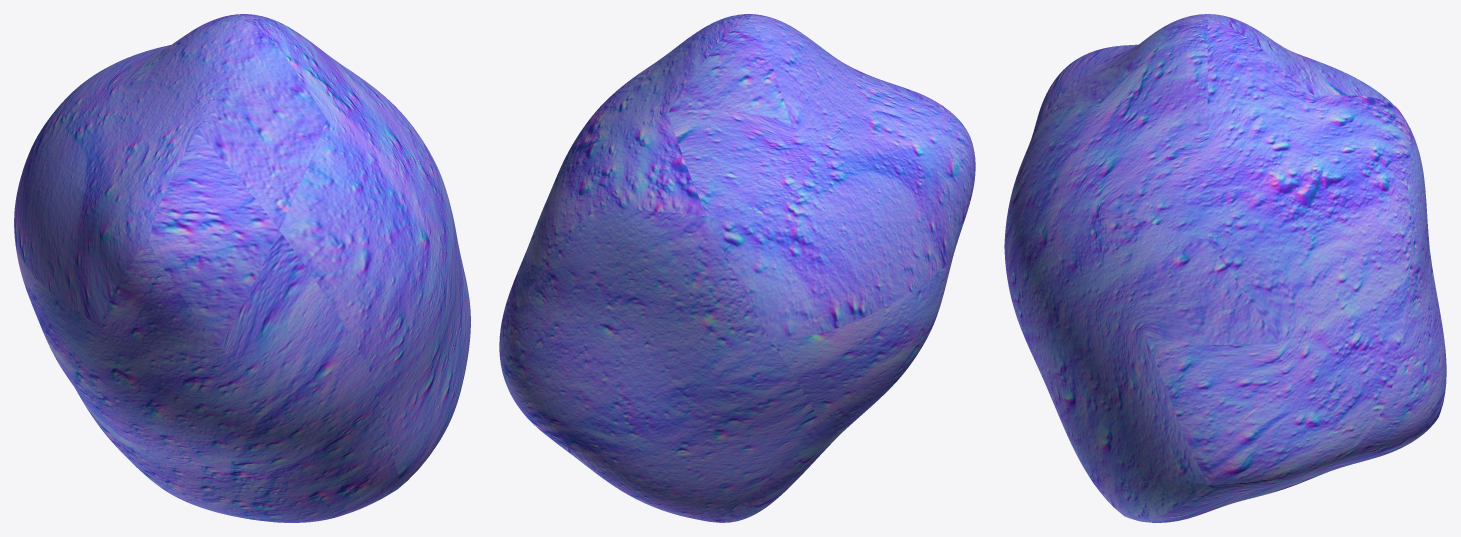
The model's file is mediumasteroid2_LOD0.fbx.
3 renders of one model, left to right at view 1: azimuth 30°, elevation 25°; view 2: azimuth 150°, elevation 25°; view 3: azimuth 270°, elevation 25°, orthographic. The views are drawn at different scales.
Parts seen in each view (by area): view 1: Icosphere; view 2: Icosphere; view 3: Icosphere.
Part boxes in pixels (left/top/right/bottom): Icosphere: left=14, top=14, right=470, bottom=522; Icosphere: left=499, top=14, right=975, bottom=522; Icosphere: left=1004, top=14, right=1446, bottom=522.
Bounding box in the file's own units: 204 × 240 × 201.
